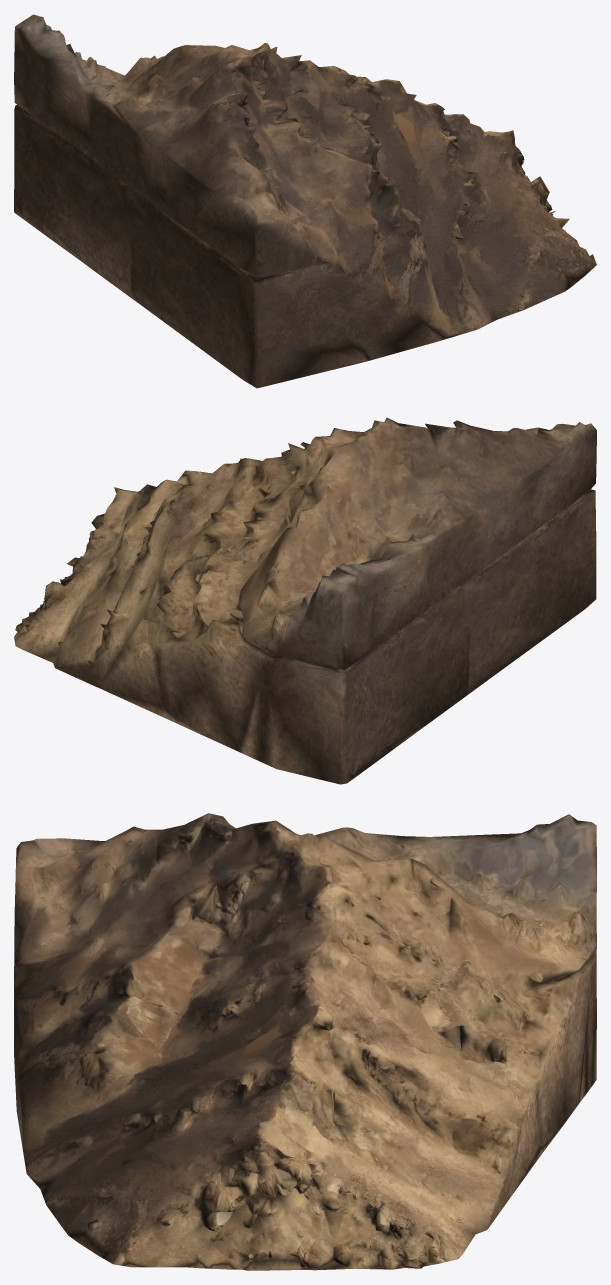
File: mal_berge.glb
The picture shows the model from 3 angles, top to bottom: view 1: azimuth 30°, elevation 25°; view 2: azimuth 150°, elevation 25°; view 3: azimuth 270°, elevation 25°; orthographic projection. The views are drawn at different scales.
Parts seen in each view (by area): view 1: tripo_node_4bec909d-da19-4313-890c-b7a551c35221; view 2: tripo_node_4bec909d-da19-4313-890c-b7a551c35221; view 3: tripo_node_4bec909d-da19-4313-890c-b7a551c35221.
Boxes of the visible parts, bbox=[...] form: tripo_node_4bec909d-da19-4313-890c-b7a551c35221: bbox=[14, 14, 596, 388]; tripo_node_4bec909d-da19-4313-890c-b7a551c35221: bbox=[14, 417, 596, 784]; tripo_node_4bec909d-da19-4313-890c-b7a551c35221: bbox=[14, 813, 596, 1270].
Bounding box in the file's own units: 0.9317 × 0.5197 × 1.
Materials: 1 (1 with a texture image).
